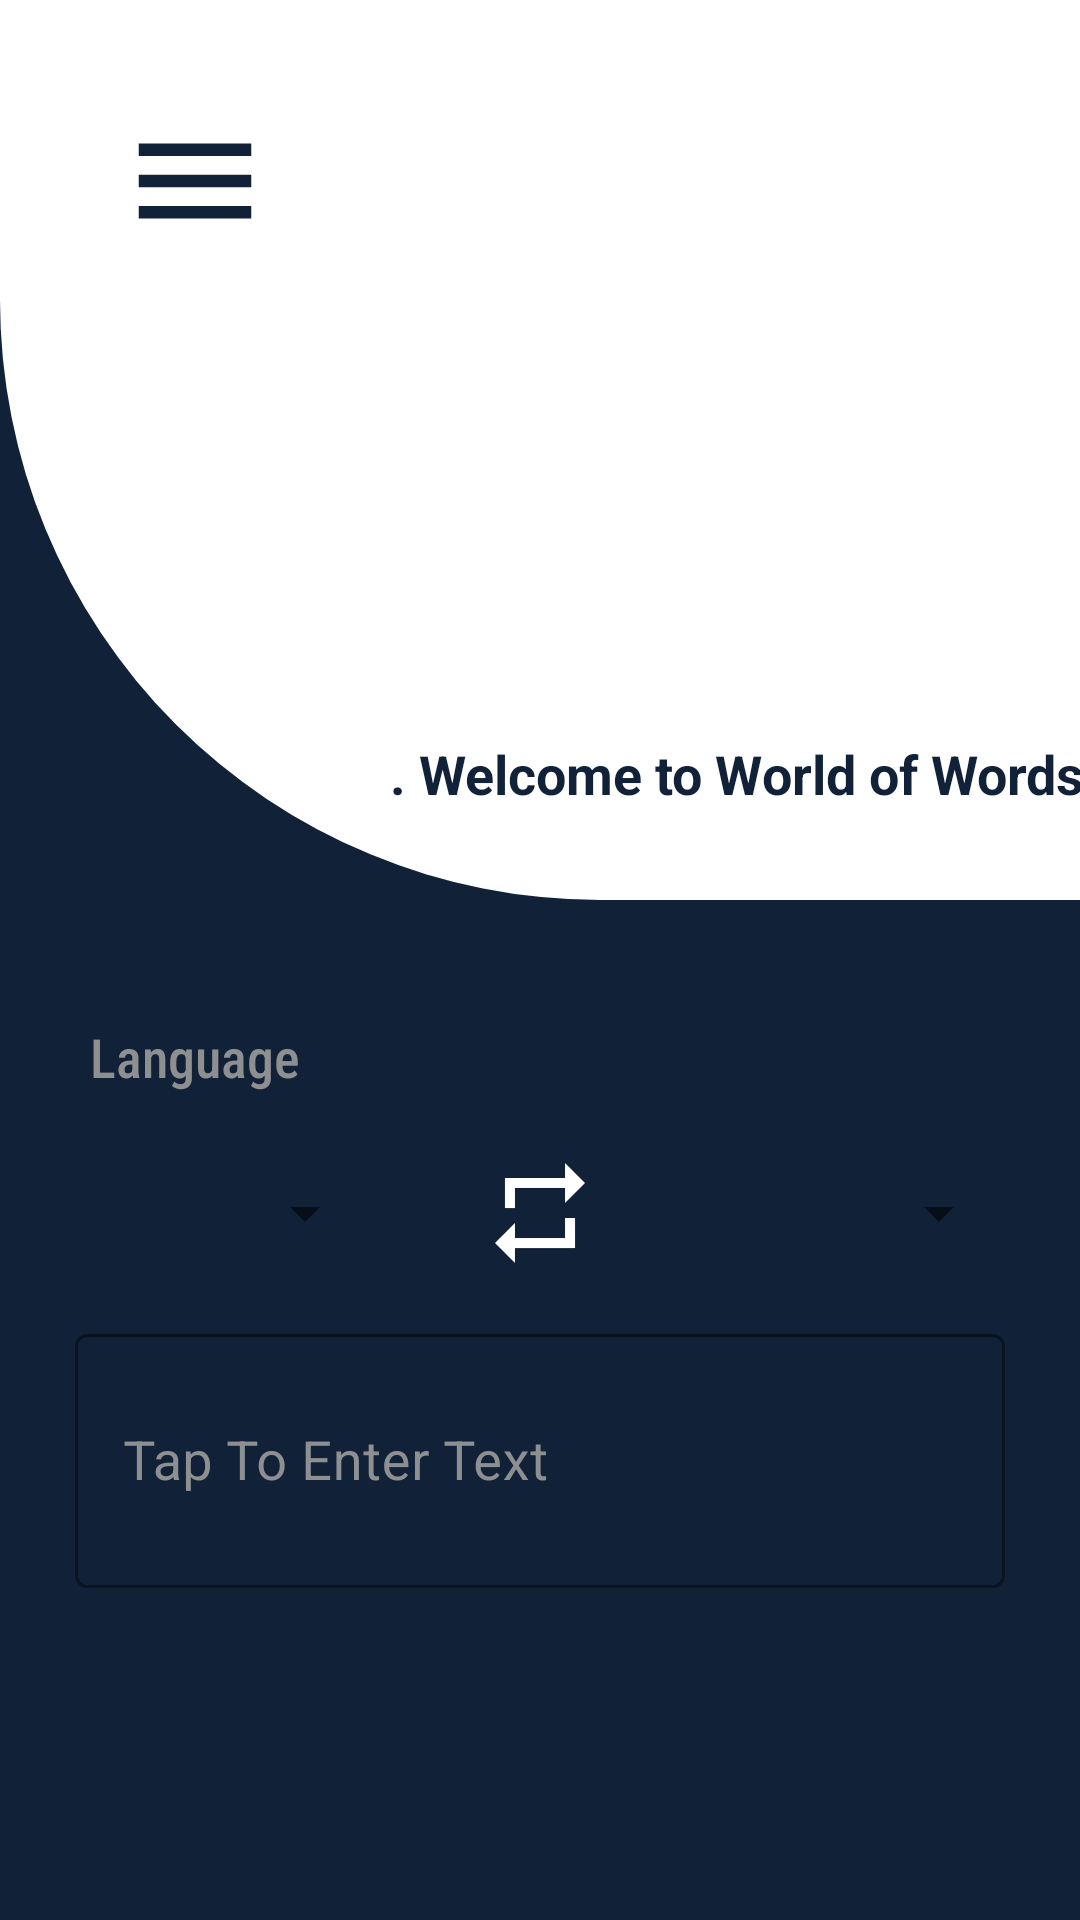

Locate icon controls on the screen. Image size 1080 x 1920, boxes as (x1, y1, x2, y2).
menu: (138, 143, 252, 219)
repeat: (495, 1163, 585, 1263)
